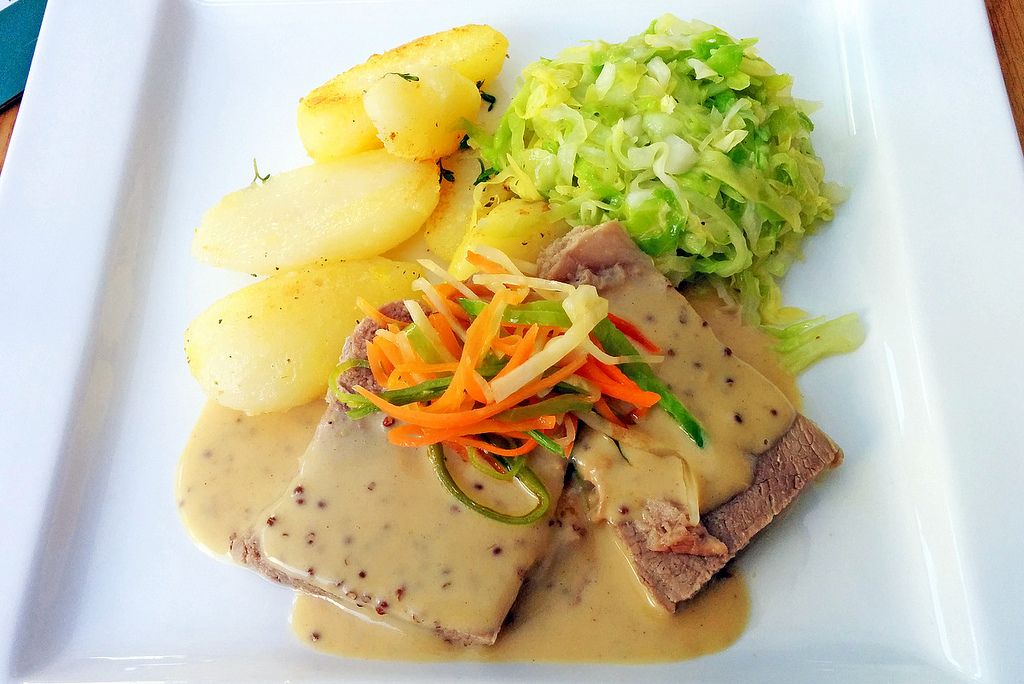boiled potatoes: (268, 83, 460, 270)
chopped lettuce: (542, 52, 804, 231)
